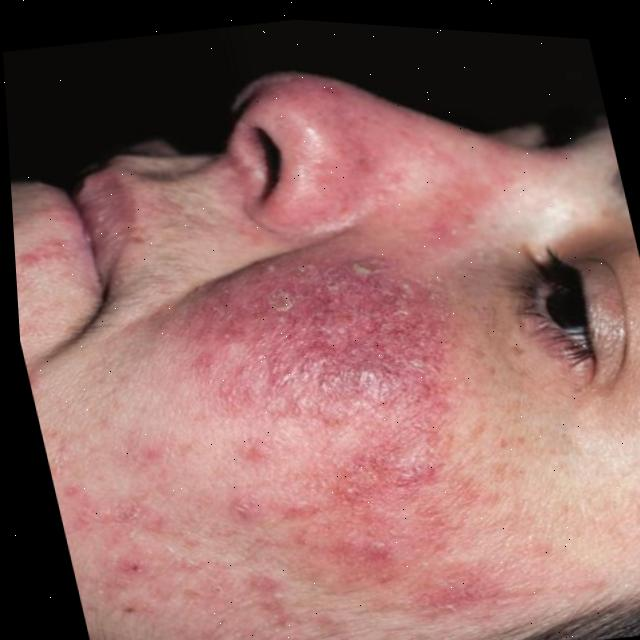Rosacea: (130, 244, 524, 628)
